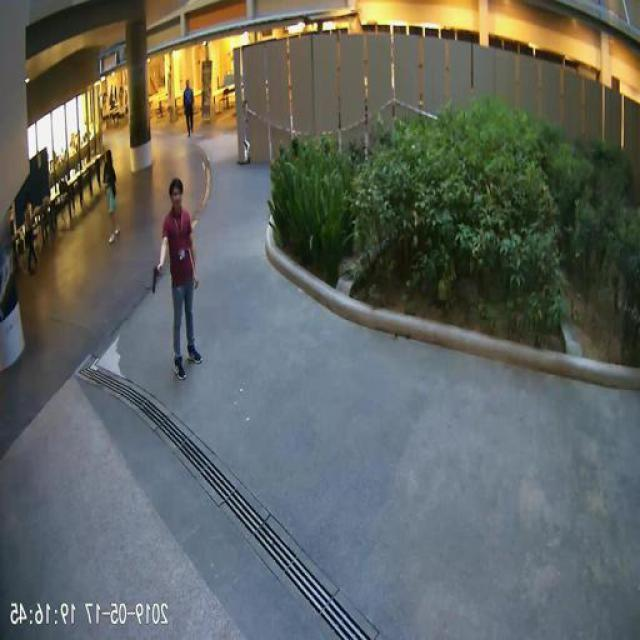weapon: (151, 266, 163, 294)
